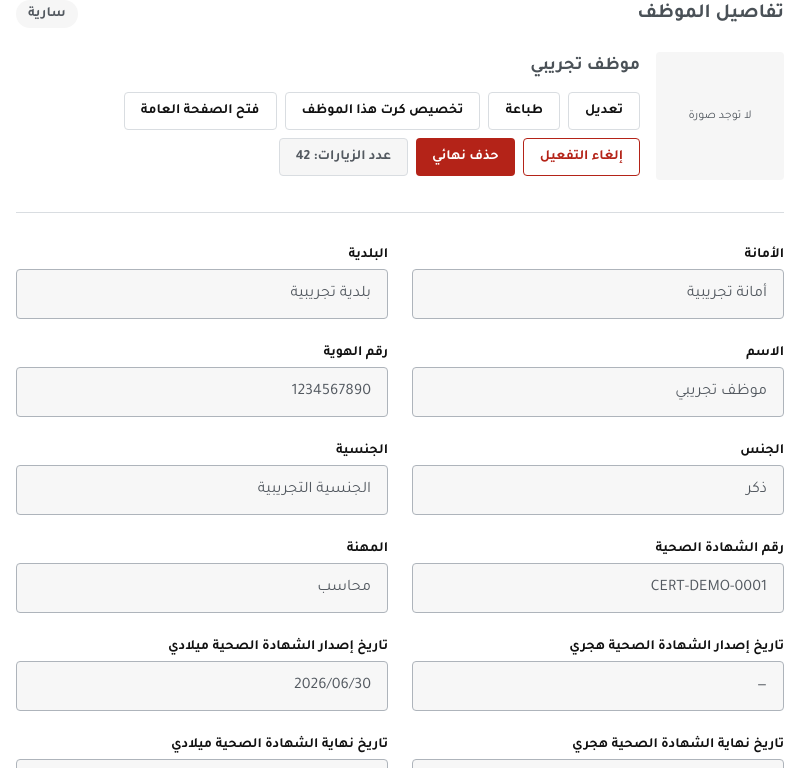
Test case: EmployeeDetailsPage deactivate/reactivate › shows an error message instead of failing silently when deactivation fails
Expected: the heading "تفاصيل الموظف" is shown, [637,0,784,28]
Step 1. Click the button "إلغاء التفعيل" → [581, 157], box [523,138,640,176]
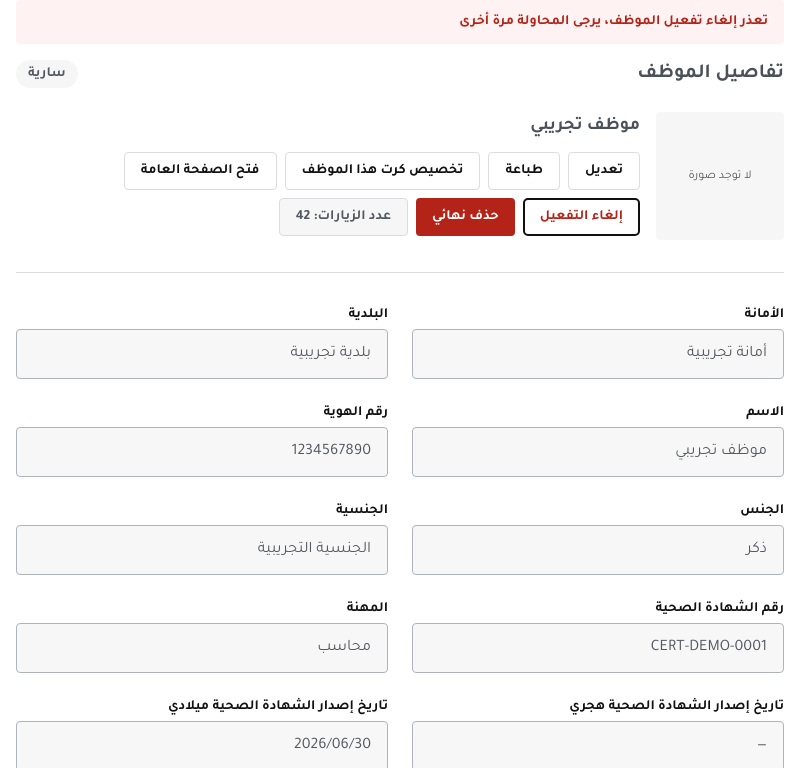
Result: the text "تعذر إلغاء تفعيل الموظف، يرجى المحاولة مرة أخرى" is shown at [16,0,784,44]
